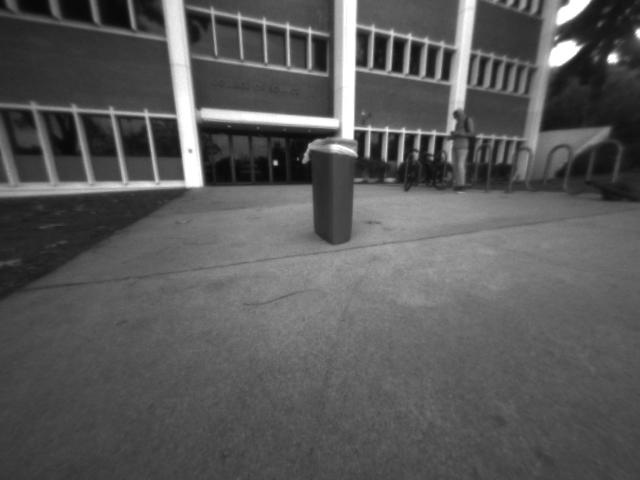trashcan: (300, 135, 369, 253)
